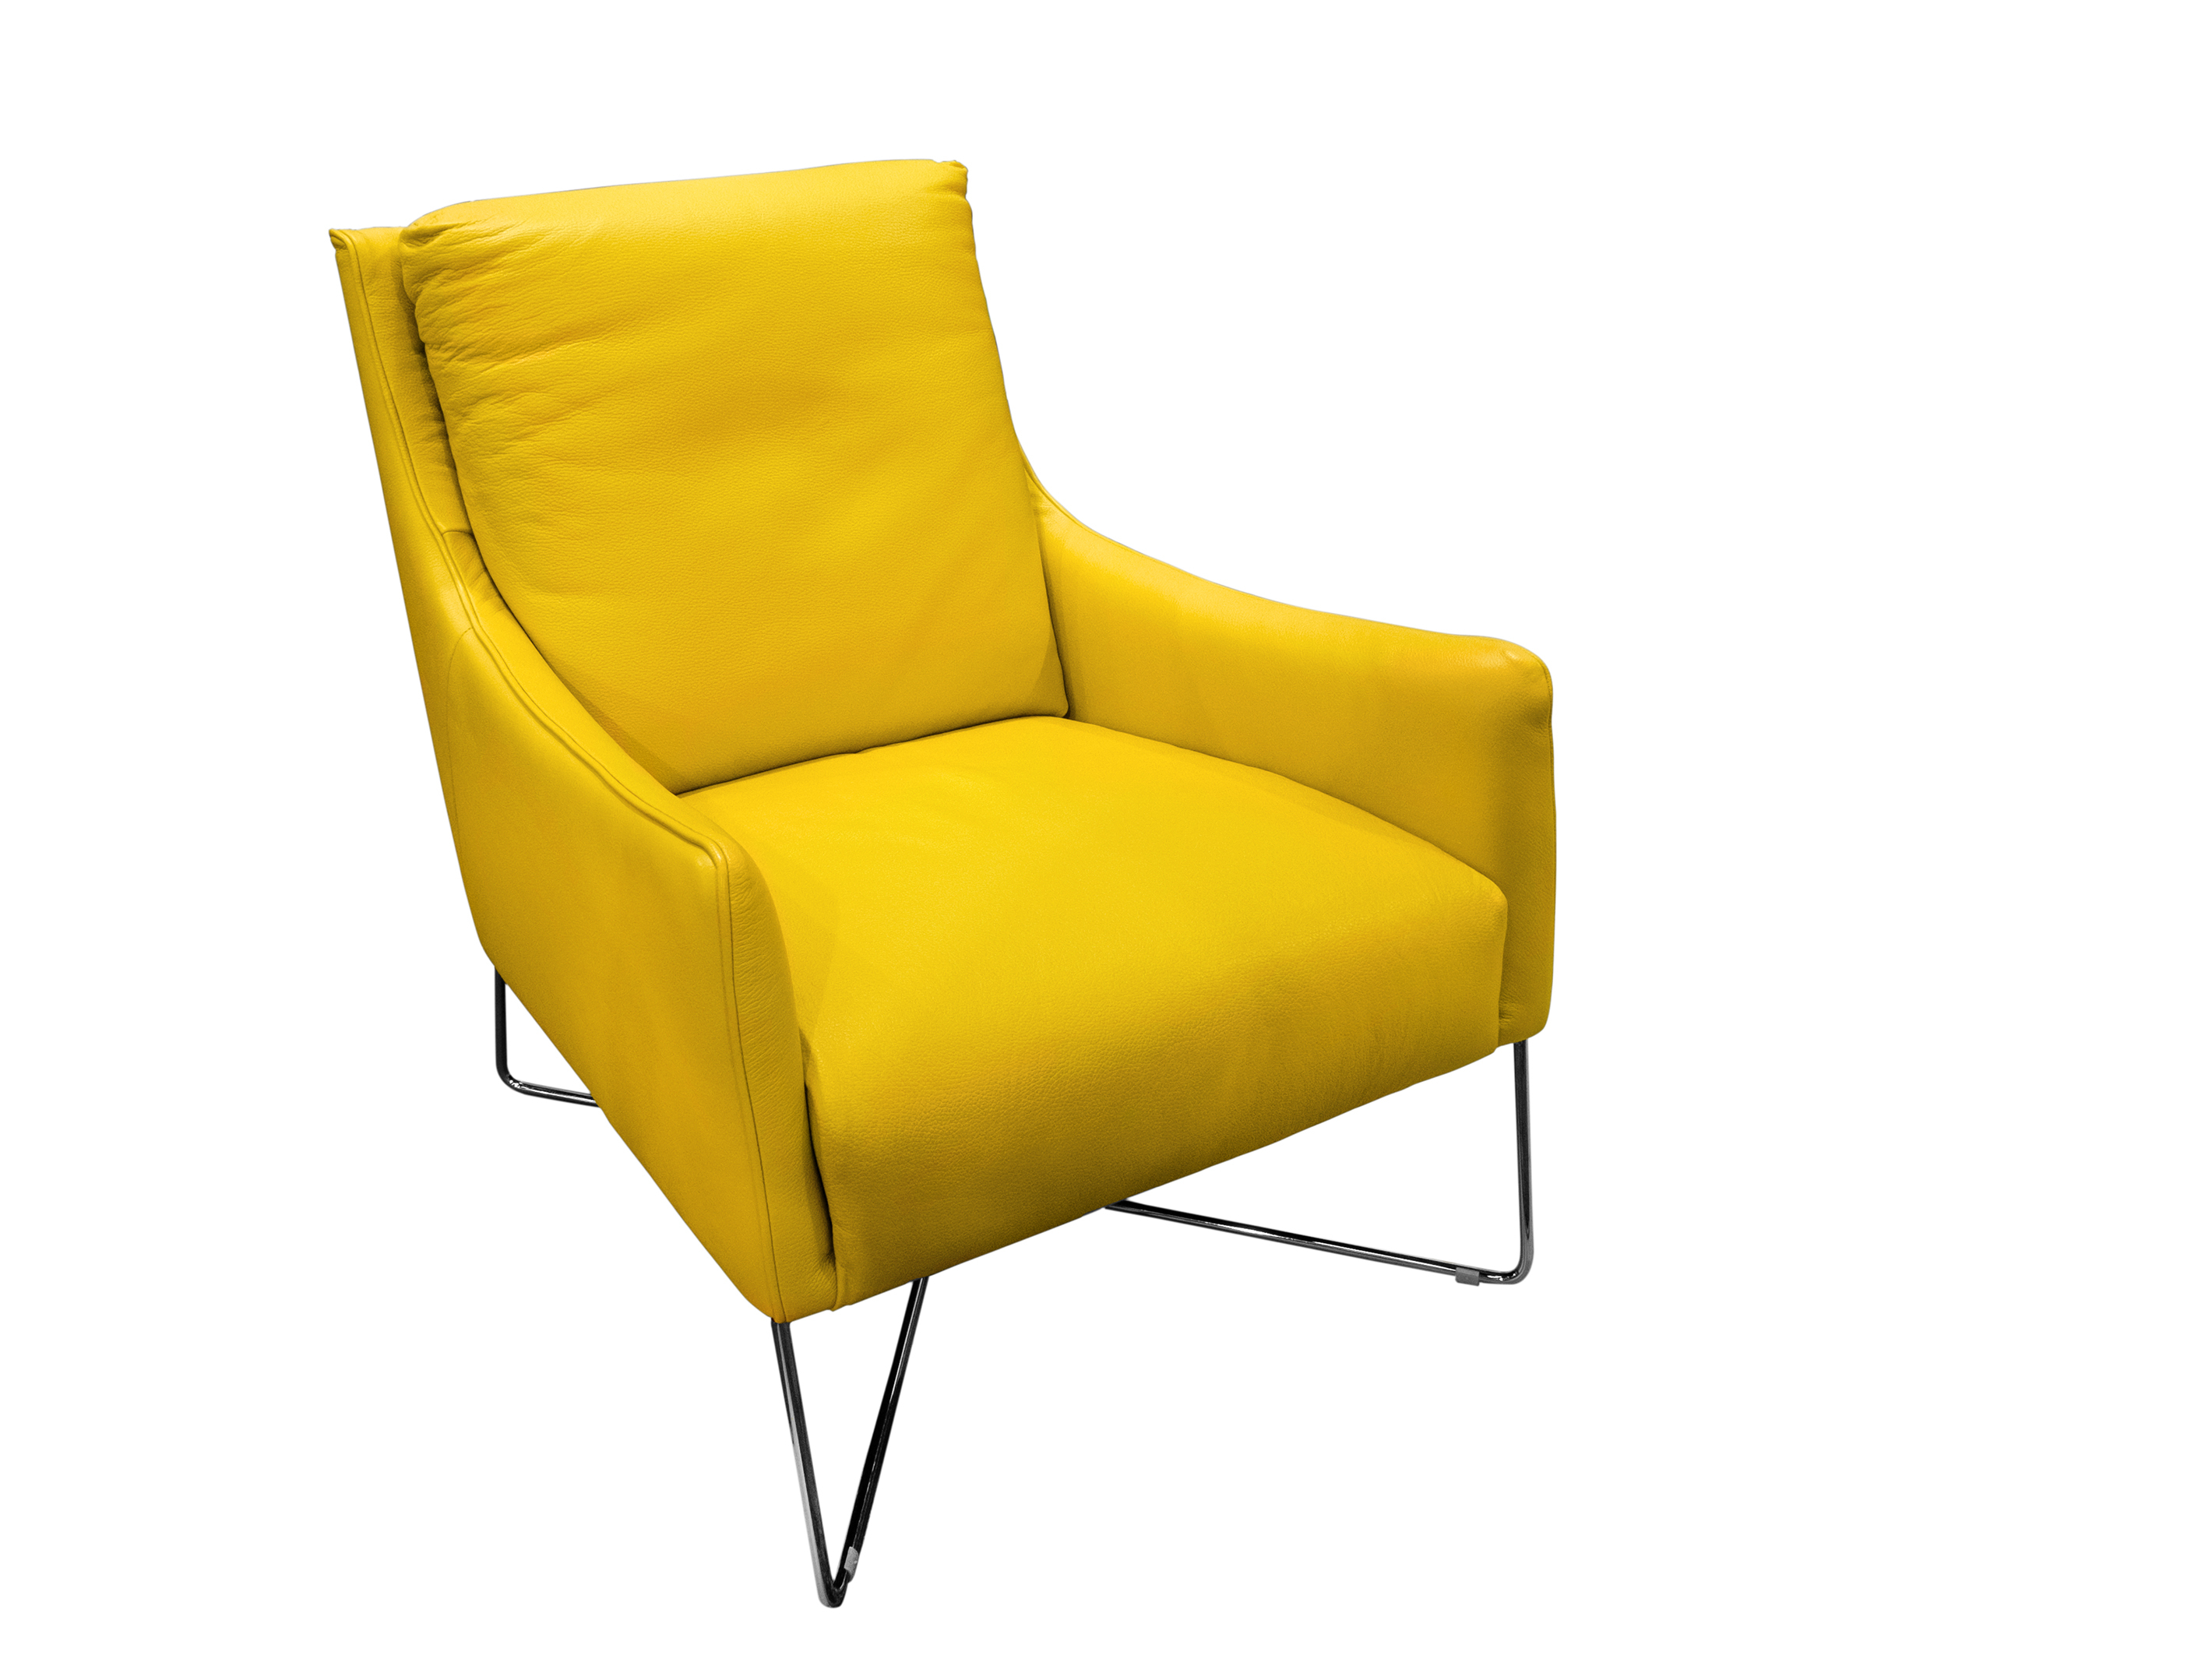chairs: (282, 152, 1580, 1624)
